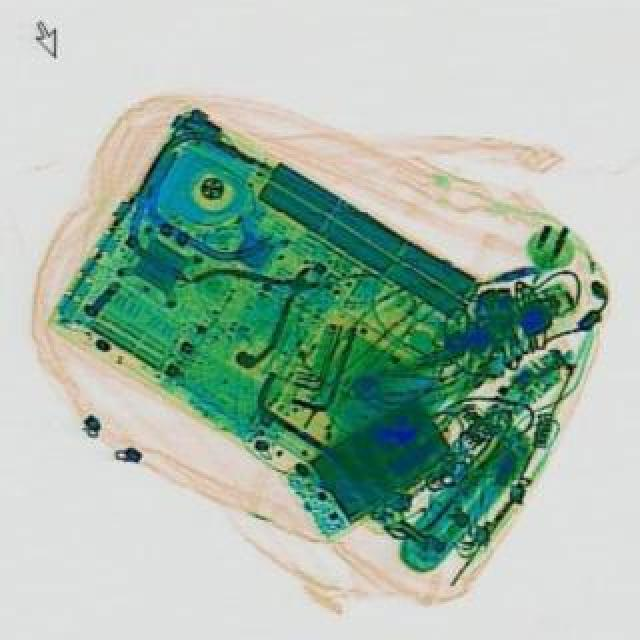wrench: (188, 234, 348, 376)
